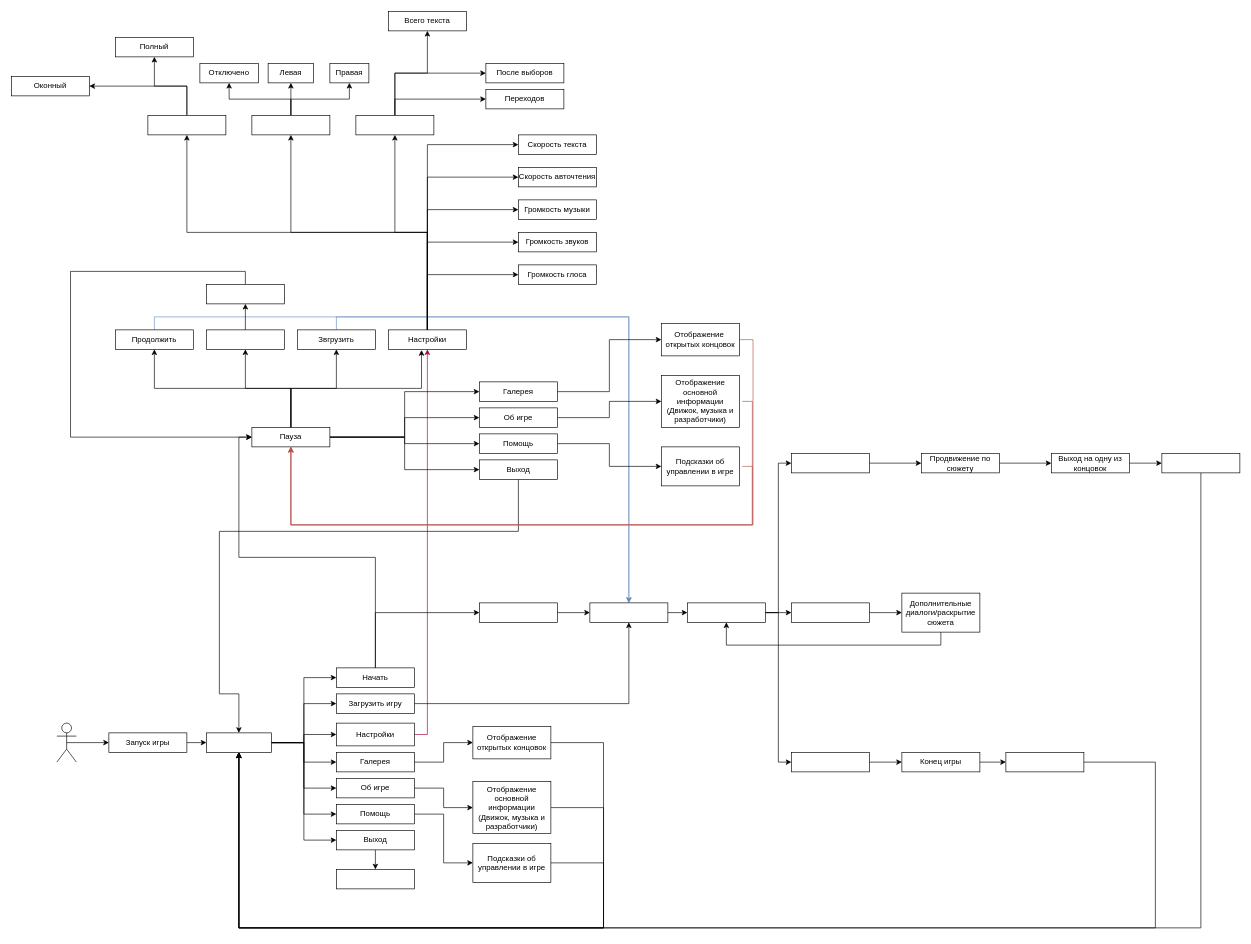
Image size: 1251x944. Some labels were removed from this diagram. The centre of each missing label's shape, as x and y in pixels:
"Выбор варианта ответа" goes at (726,612).
"Выйти в меню" goes at (1044,762).
"Выход в меню" goes at (1200,463).
"Закрытие приложения" goes at (375,879).
"Играть в игру" goes at (518,612).
"Нейтральный" goes at (830,612).
"Неправильный ответ" goes at (830,762).
"Пользователь" goes at (66,742).
"Попадание в меню" goes at (238,742).
"Правильный ответ" goes at (830,463).
"Пропуск" goes at (394,125).
"Режим экрана" goes at (186,125).
"Сохранение прогресса" goes at (245,294).
"Сохранить" goes at (245,339).
"Сторона отката" goes at (290,125).
"Чтение визуальной новеллы" goes at (628,612).
